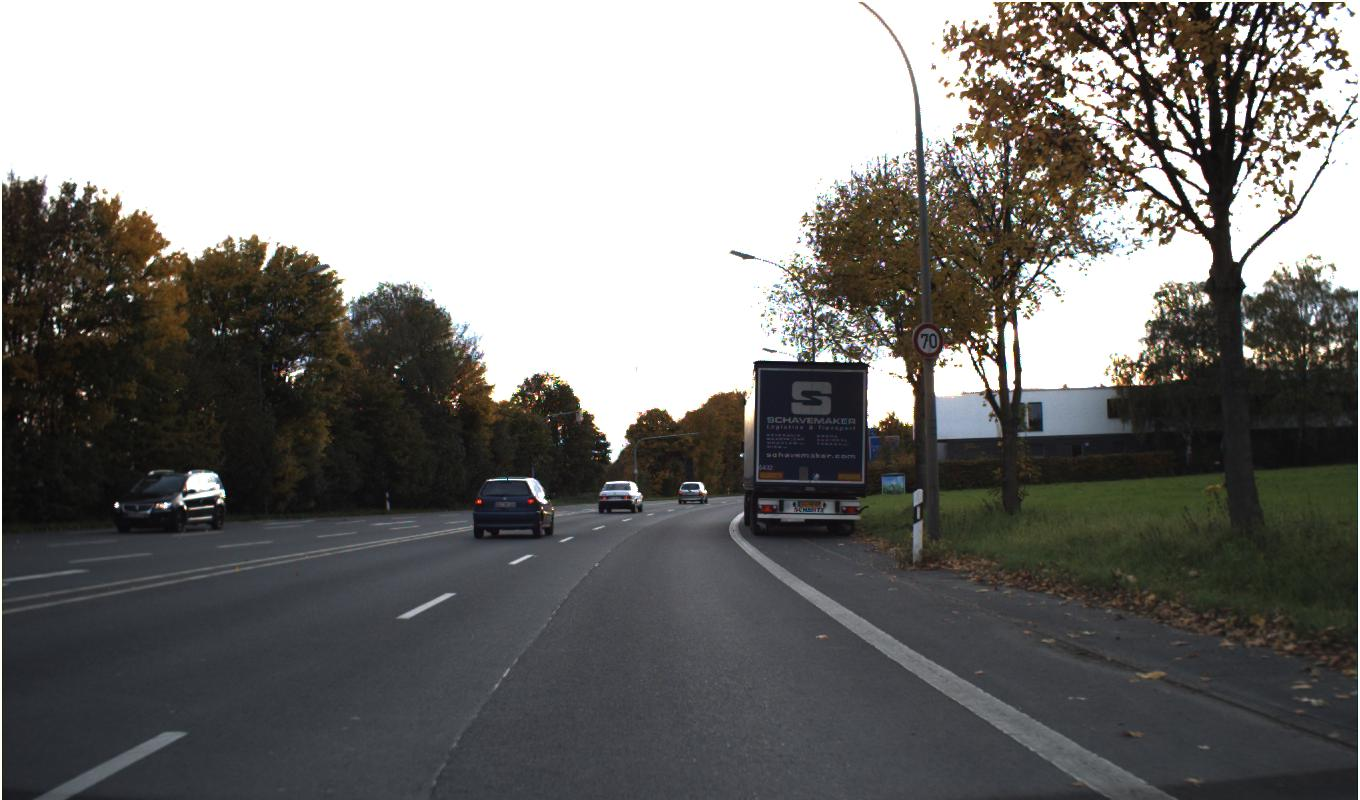prohibitory: (912, 322, 944, 358)
